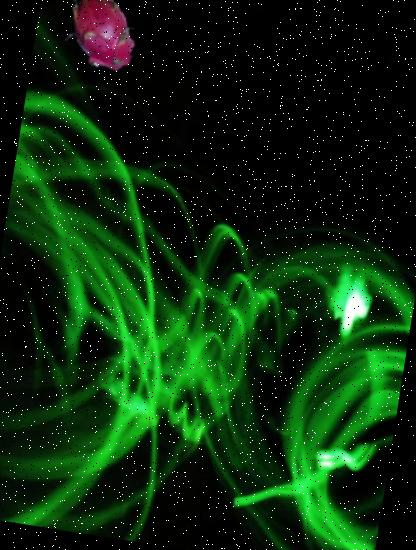Pitahaya: (47, 0, 149, 82)
